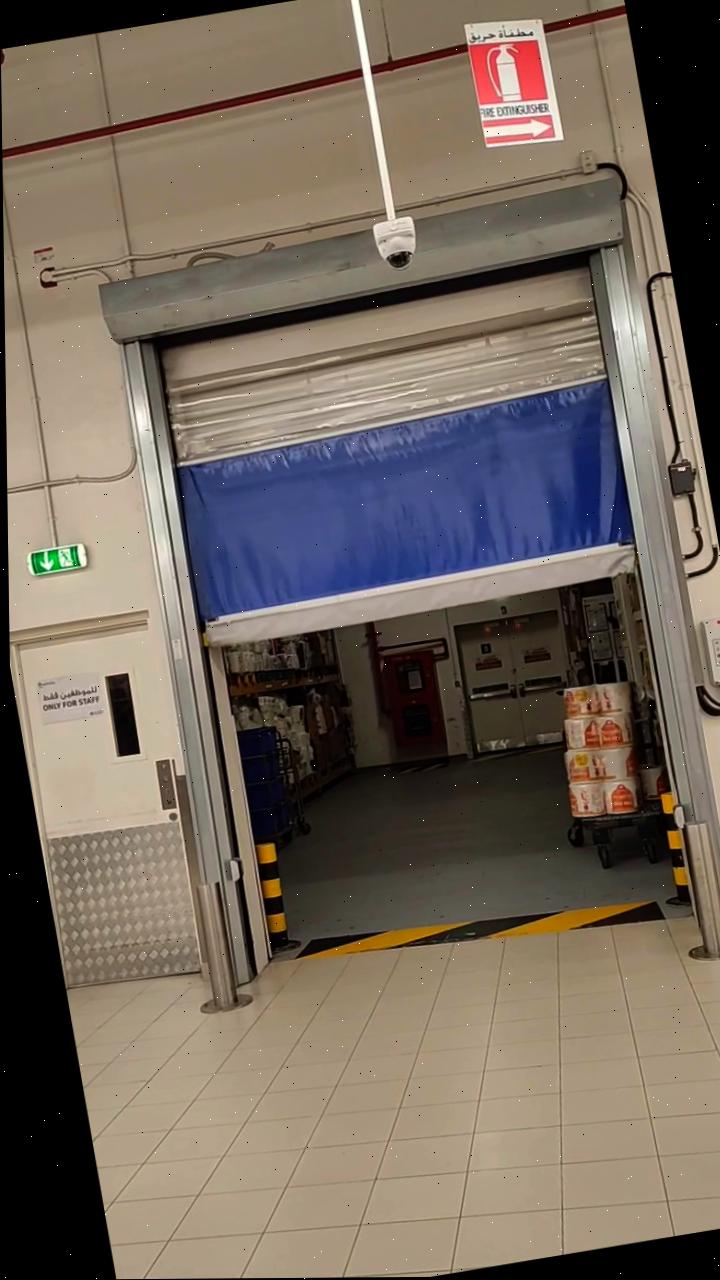Strip: (296, 873, 659, 984)
